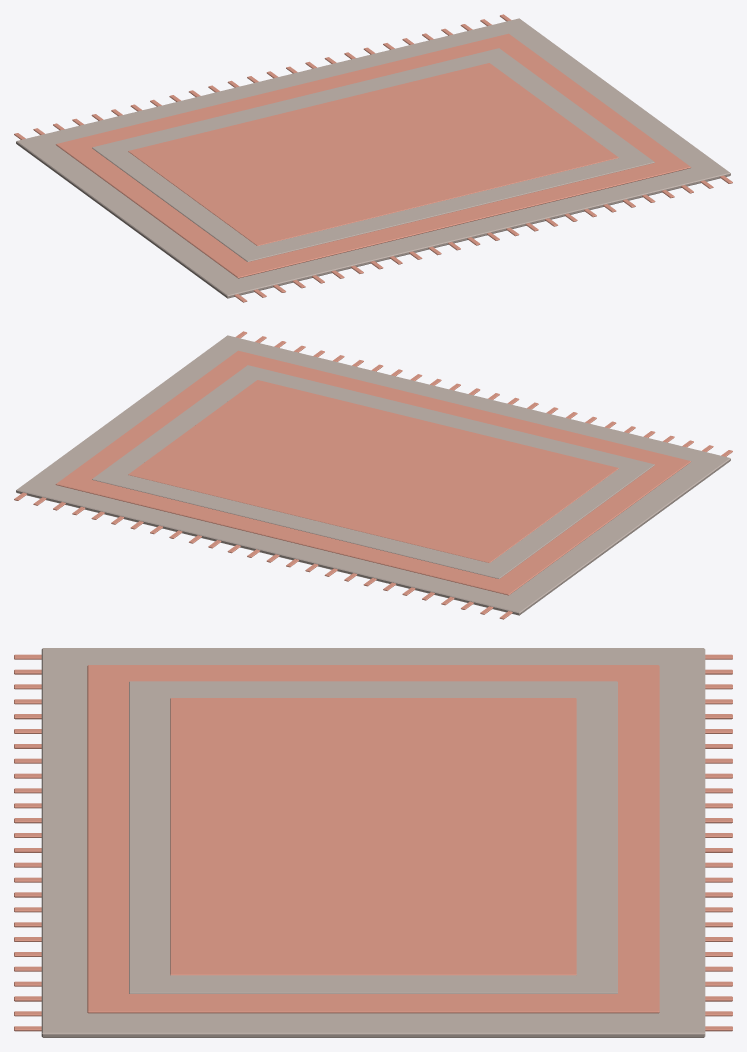
Rendered from care-home-and-day-room-day-room-rug-94ce7285__35741.glb.
3 renders of one model, top to bottom at view 1: azimuth 30°, elevation 25°; view 2: azimuth 150°, elevation 25°; view 3: azimuth 270°, elevation 25°, orthographic. The views are drawn at different scales.
Parts seen in each view (by area): view 1: day-room-rug; view 2: day-room-rug; view 3: day-room-rug.
Boxes of the visible parts, x1,y1,x2,y2 form: day-room-rug: (14, 14, 732, 302); day-room-rug: (14, 331, 732, 619); day-room-rug: (14, 648, 732, 1037).
Size of the model in its own units: 2.2 by 0.025 by 1.73.
